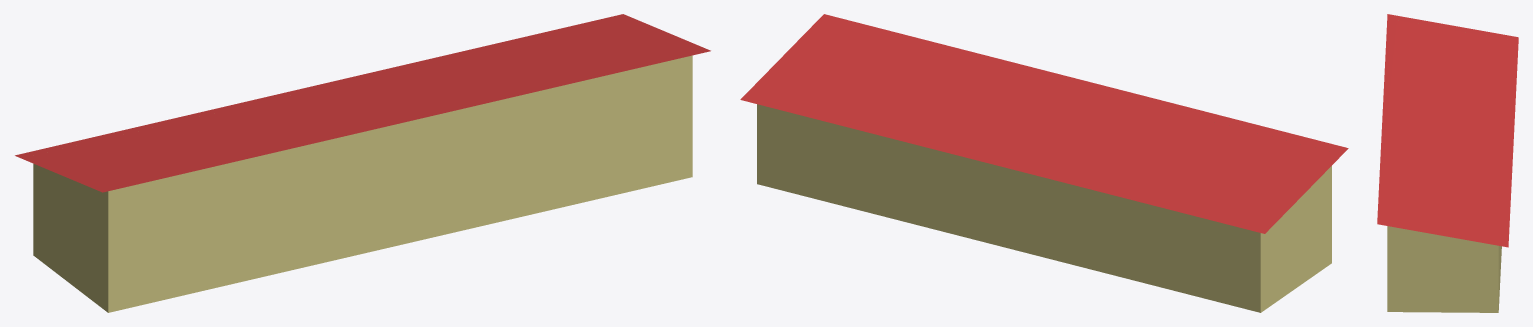
The picture shows the model from 3 angles, left to right: view 1: azimuth 30°, elevation 25°; view 2: azimuth 150°, elevation 25°; view 3: azimuth 270°, elevation 25°; orthographic projection. The views are drawn at different scales.
Bounding box in the file's own units: 37.41 × 10.59 × 7.59.
